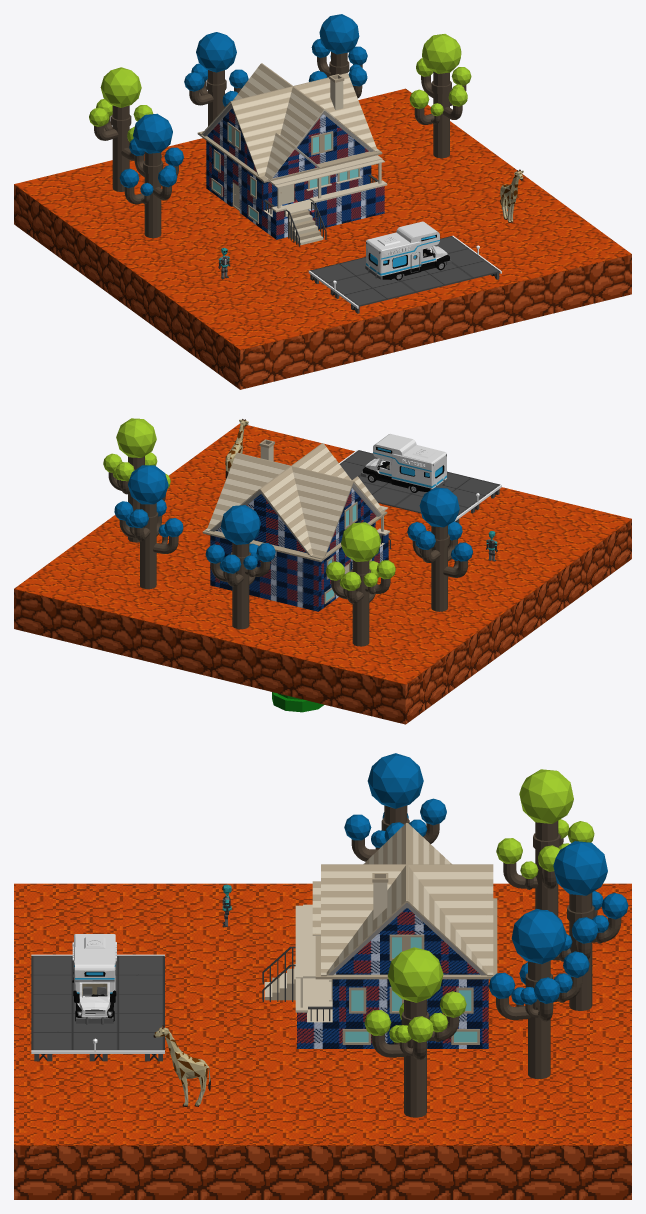
3 views of the same model, one above another, from view 1: azimuth 30°, elevation 25°; view 2: azimuth 150°, elevation 25°; view 3: azimuth 270°, elevation 25° (orthographic). The views are drawn at different scales.
Visible parts, largest first — view 1: Cube.001, Cube.171, VEHICLES_CAMPER, ANIMAL_JIRAFA; view 2: Cube.001, Cube.171, VEHICLES_CAMPER, UNDERGROUND_PIPES, ANIMAL_JIRAFA; view 3: Cube.001, Cube.171, VEHICLES_CAMPER, ANIMAL_JIRAFA.
Boxes of the visible parts, <box> form: Cube.001: <box>14,14,631,389</box>; Cube.171: <box>197,63,387,246</box>; VEHICLES_CAMPER: <box>365,221,451,280</box>; ANIMAL_JIRAFA: <box>500,169,523,222</box>; Cube.001: <box>14,418,631,724</box>; Cube.171: <box>202,439,390,611</box>; VEHICLES_CAMPER: <box>361,434,447,492</box>; UNDERGROUND_PIPES: <box>272,692,324,712</box>; ANIMAL_JIRAFA: <box>225,419,248,478</box>; Cube.001: <box>14,753,631,1199</box>; Cube.171: <box>262,823,497,1048</box>; VEHICLES_CAMPER: <box>72,934,116,1024</box>; ANIMAL_JIRAFA: <box>153,1025,210,1106</box>.
Bounding box in the file's own units: 4000 × 2247 × 4000.
36 materials, 5 textured.
